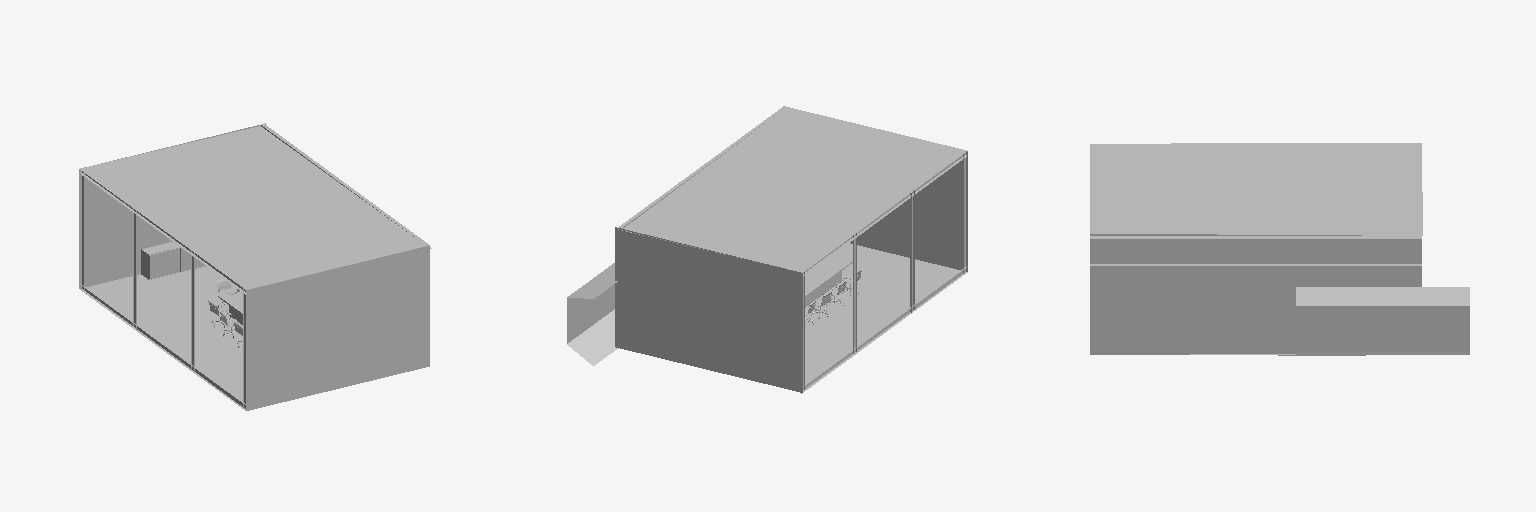
Rendered from business_centre.obj.
3 renders of one model, left to right at view 1: azimuth 30°, elevation 25°; view 2: azimuth 150°, elevation 25°; view 3: azimuth 270°, elevation 25°, orthographic.
Visible parts, largest first — view 1: Object004; view 2: Object004; view 3: Object004.
Boxes of the visible parts, x1=… form: Object004: x1=79, y1=123, x2=431, y2=410; Object004: x1=567, y1=106, x2=967, y2=393; Object004: x1=1090, y1=143, x2=1469, y2=355.
Size of the model in its own units: 329 by 182 by 512.